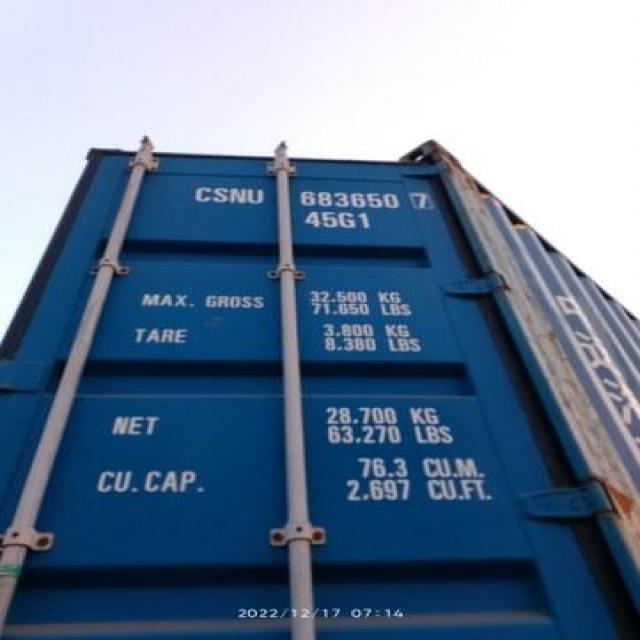ISO: (305, 211, 373, 232)
container_number: (188, 184, 424, 211)
